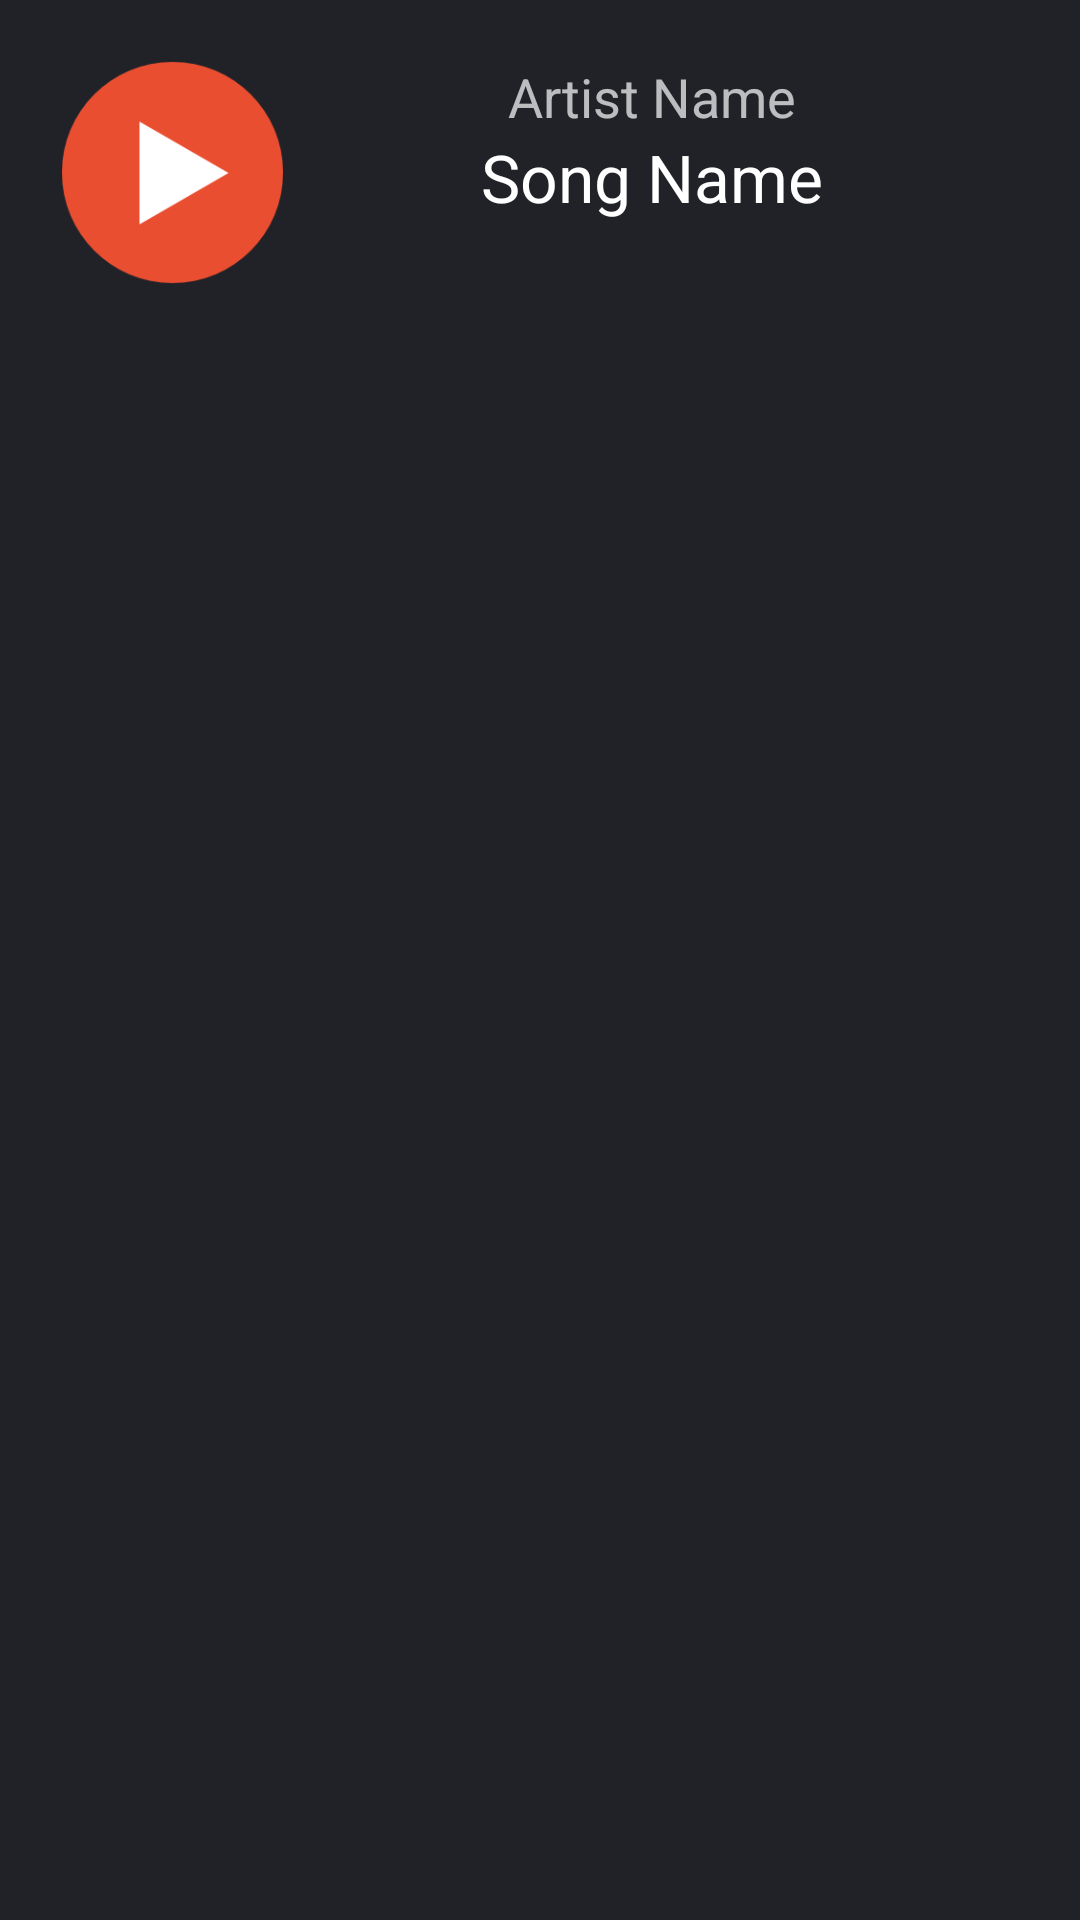

Locate icon controls on the screen. Image size 1080*1920, boxes as (x1, y1, x2, y2).
play: (62, 62, 283, 283)
